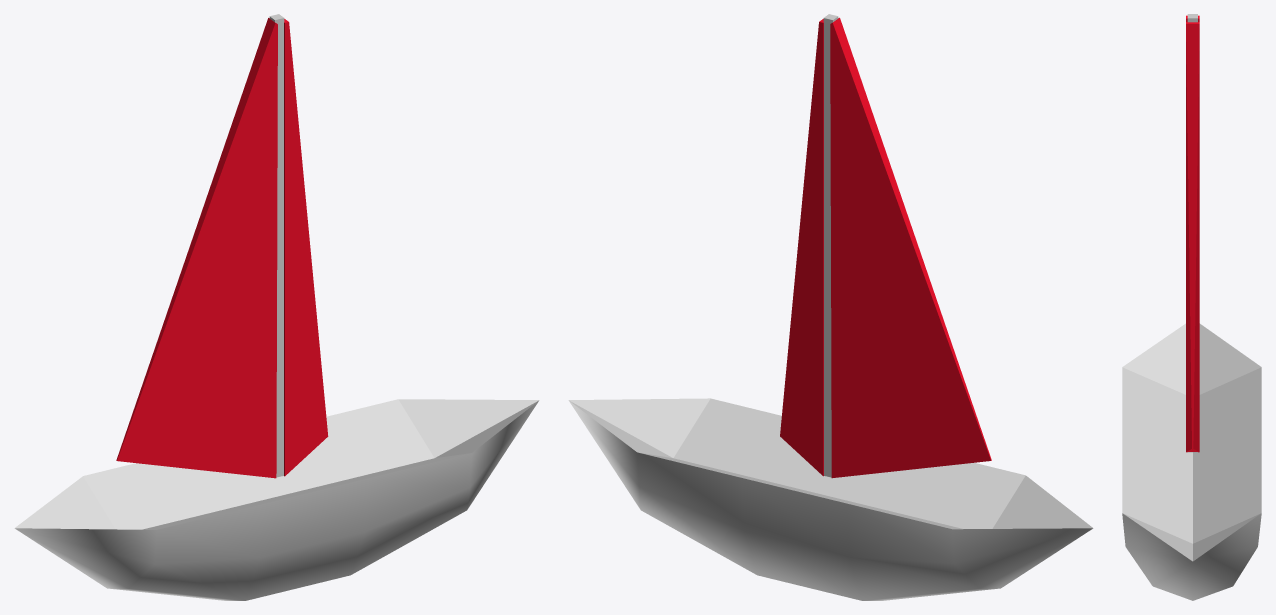
Rendered from Ship_1.FBX.
3 renders of one model, left to right at view 1: azimuth 30°, elevation 25°; view 2: azimuth 150°, elevation 25°; view 3: azimuth 270°, elevation 25°, orthographic. The views are drawn at different scales.
Parts seen in each view (by area): view 1: Ship_body, Ship_fan, Ship_fan2, Ship_gan; view 2: Ship_body, Ship_fan, Ship_fan2, Ship_gan; view 3: Ship_body, Ship_fan2.
Boxes of the visible parts, x1,y1,x2,y2 form: Ship_body: (14,399,539,600); Ship_fan: (116,18,277,478); Ship_fan2: (284,19,328,476); Ship_gan: (269,14,284,477); Ship_body: (568,398,1093,600); Ship_fan: (830,17,991,478); Ship_fan2: (780,19,823,476); Ship_gan: (823,14,838,477); Ship_body: (1122,323,1261,600); Ship_fan2: (1186,22,1199,452).
Size of the model in its own units: 427 by 443 by 104.
